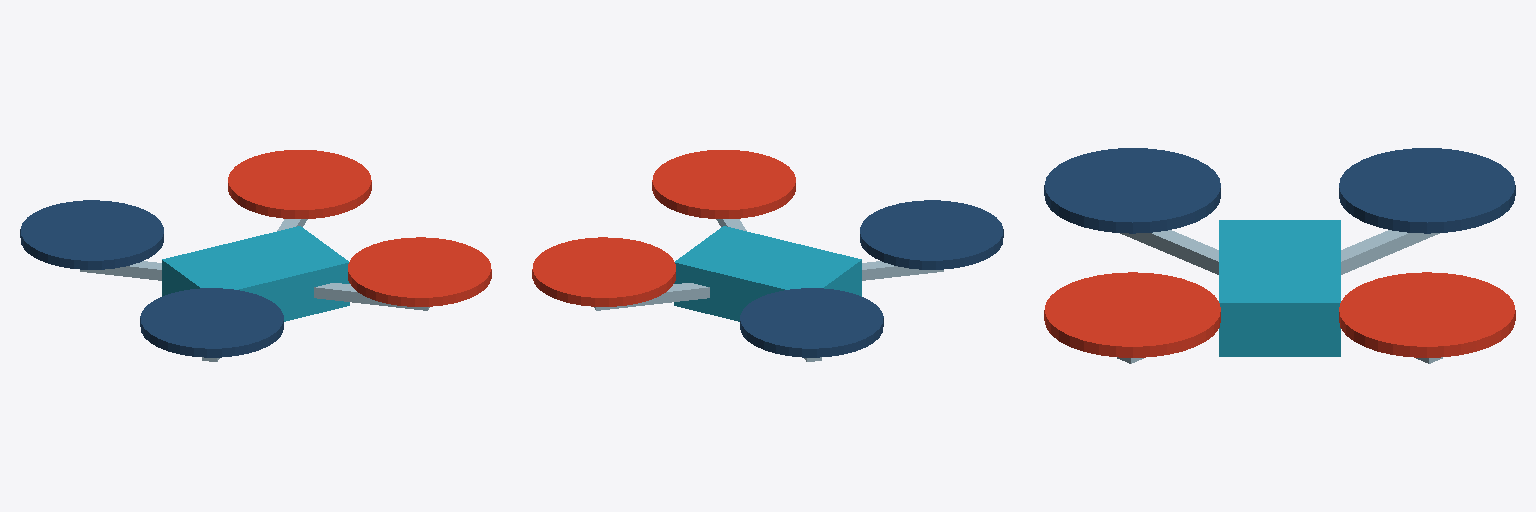
URDF robot description (example_drone):
<?xml version="1.0"?>
<!-- Original CSim visual sample, illustrative mass/inertia, no contact. -->
<robot name="example_drone"><link name="frame">
<inertial><origin xyz="0 0 0"/><mass value="1"/><inertia ixx=".02" ixy="0" ixz="0" iyy=".02" iyz="0" izz=".04"/></inertial>
<visual name="body"><origin xyz="0 0 0" rpy="0 0 0"/><geometry><mesh filename="body.obj" scale=".4 .25 .12"/></geometry><material name="body"><color rgba="0.2 0.7 0.8 1"/></material></visual>
<visual name="arm_a"><origin xyz="0 0 0" rpy="0 0 0.7853981633974483"/><geometry><box size=".9 .04 .03"/></geometry><material name="arm_a"><color rgba="0.7 0.8 0.85 1"/></material></visual>
<visual name="arm_b"><origin xyz="0 0 0" rpy="0 0 -0.7853981633974483"/><geometry><box size=".9 .04 .03"/></geometry><material name="arm_b"><color rgba="0.7 0.8 0.85 1"/></material></visual>
<visual name="rotor_0"><origin xyz="0.3 0.3 .08" rpy="0 0 0"/><geometry><cylinder radius=".18" length=".025"/></geometry><material name="rotor_0"><color rgba="0.9 0.3 0.2 1"/></material></visual>
<visual name="rotor_1"><origin xyz="-0.3 0.3 .08" rpy="0 0 0"/><geometry><cylinder radius=".18" length=".025"/></geometry><material name="rotor_1"><color rgba="0.2 0.35 0.5 1"/></material></visual>
<visual name="rotor_2"><origin xyz="-0.3 -0.3 .08" rpy="0 0 0"/><geometry><cylinder radius=".18" length=".025"/></geometry><material name="rotor_2"><color rgba="0.2 0.35 0.5 1"/></material></visual>
<visual name="rotor_3"><origin xyz="0.3 -0.3 .08" rpy="0 0 0"/><geometry><cylinder radius=".18" length=".025"/></geometry><material name="rotor_3"><color rgba="0.9 0.3 0.2 1"/></material></visual>
</link></robot>

--- Facts derived from the render (not from the file) ---
Views: 3 orthographic renders of the robot side by side, from view 1: azimuth 30°, elevation 25°; view 2: azimuth 150°, elevation 25°; view 3: azimuth 270°, elevation 25°.
Model example_drone with 1 links and 0 joints (none), rooted at frame, posed all joints at 0.
Links seen in each view (by area): view 1: frame; view 2: frame; view 3: frame.
Link boxes in pixels (x1=…): frame: x1=20, y1=150, x2=491, y2=361; frame: x1=532, y1=150, x2=1003, y2=361; frame: x1=1044, y1=148, x2=1515, y2=363.
Size in the robot's own frame: 0.96 by 0.96 by 0.1525 metres.
1 mesh visuals loaded from 1 distinct referenced files (1 OBJ).
